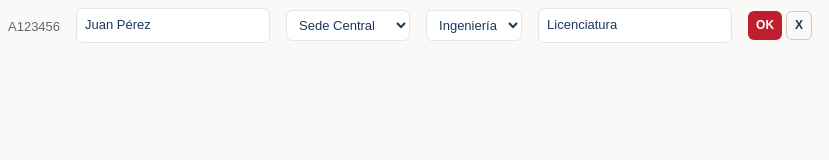
Test: EditStudentModal › disables save button while saving
Click the button "OK" at [765, 25], box x1=748 y1=11 x2=782 y2=40
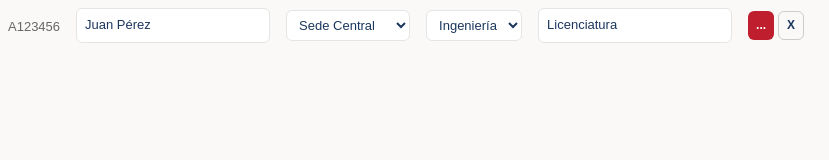
Expected: the button "..." is disabled, x1=748 y1=11 x2=774 y2=40
